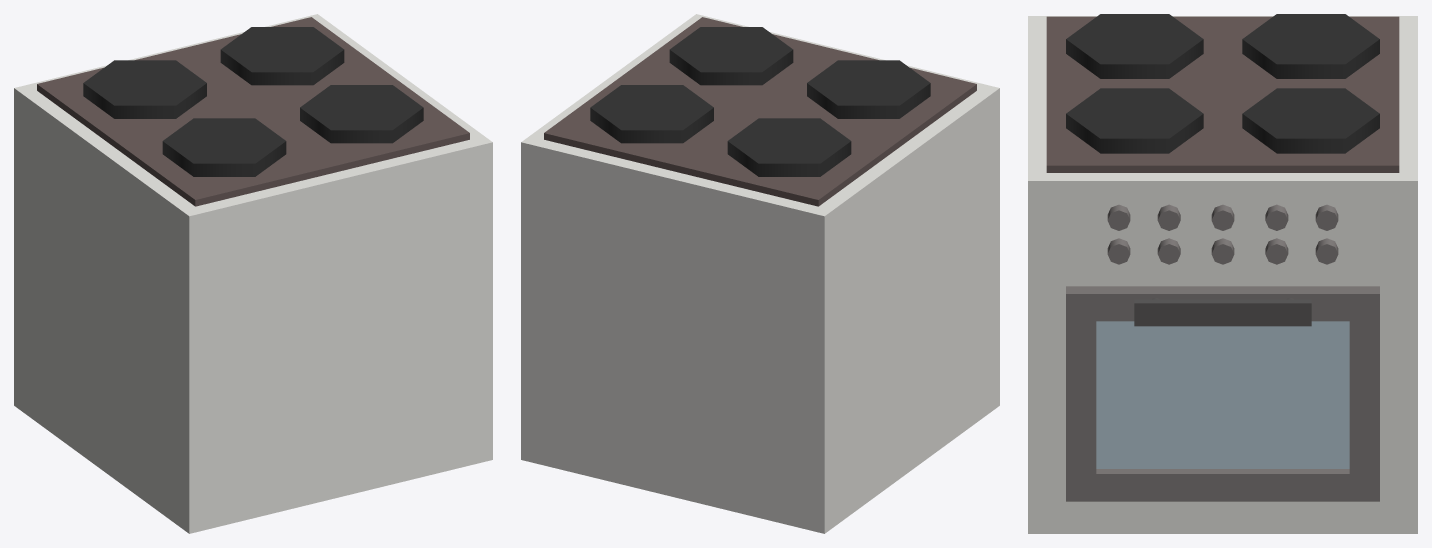
Rendered from oven.fbx.
3 renders of one model, left to right at view 1: azimuth 30°, elevation 25°; view 2: azimuth 150°, elevation 25°; view 3: azimuth 270°, elevation 25°, orthographic. The views are drawn at different scales.
Visible parts, largest first — view 1: oven; view 2: oven; view 3: oven.
Part boxes in pixels (x1,y1,x2,y2): oven: [14, 14, 492, 533]; oven: [521, 14, 999, 533]; oven: [1028, 14, 1417, 533].
Bounding box in the file's own units: 95.83 × 104 × 102.
